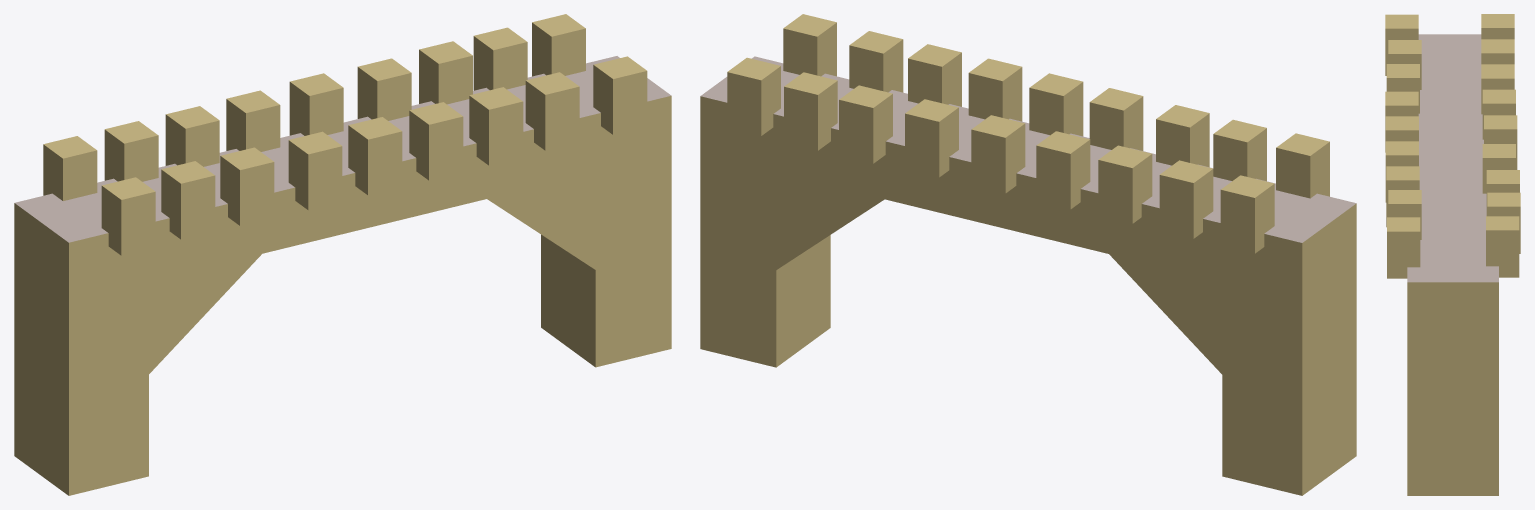
File: bridge.fbx
3 renders of one model, left to right at view 1: azimuth 30°, elevation 25°; view 2: azimuth 150°, elevation 25°; view 3: azimuth 270°, elevation 25°, orthographic. The views are drawn at different scales.
Visible parts, largest first — view 1: Cube.002; view 2: Cube.002; view 3: Cube.002.
Boxes of the visible parts, left/top/right/bottom form: Cube.002: left=14, top=14, right=671, bottom=495; Cube.002: left=700, top=14, right=1356, bottom=495; Cube.002: left=1385, top=14, right=1520, bottom=495.
Size of the model in its own units: 2171 by 1021 by 501.
